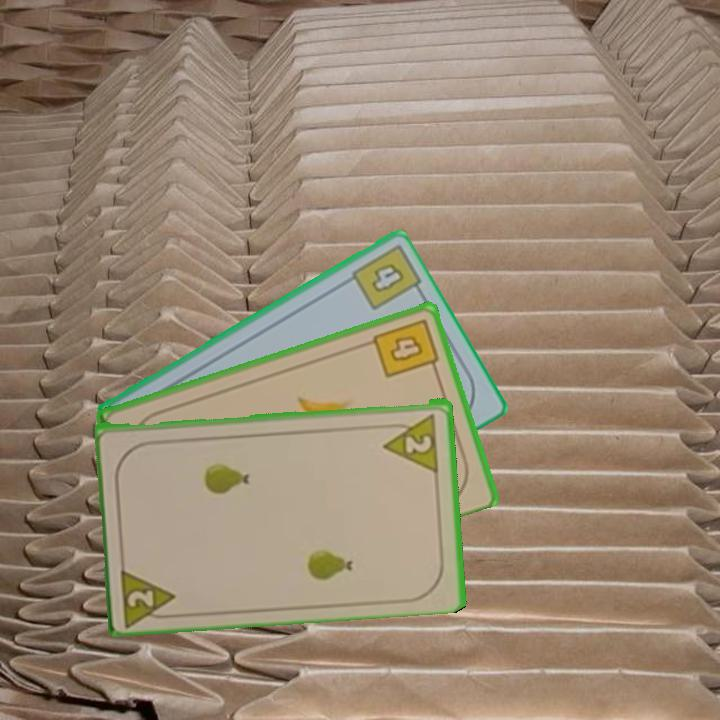2p: (117, 561, 181, 626), (402, 430, 435, 455)
4b: (369, 315, 442, 381), (368, 258, 408, 296)
